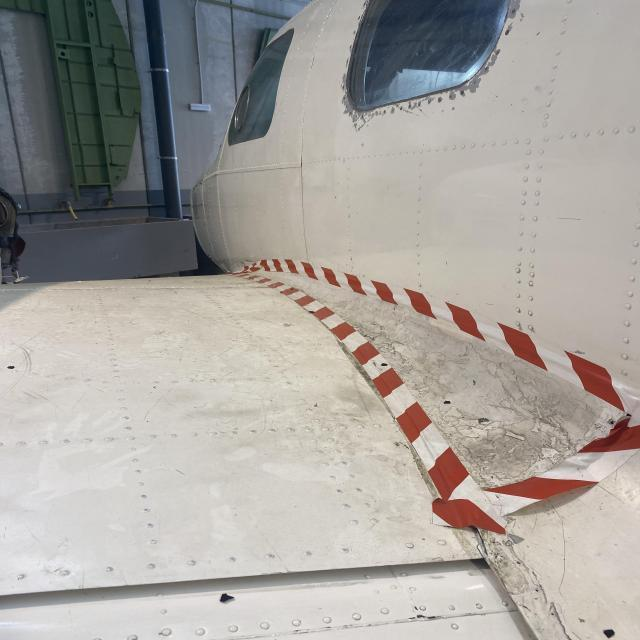Rupture: (474, 544, 484, 560)
